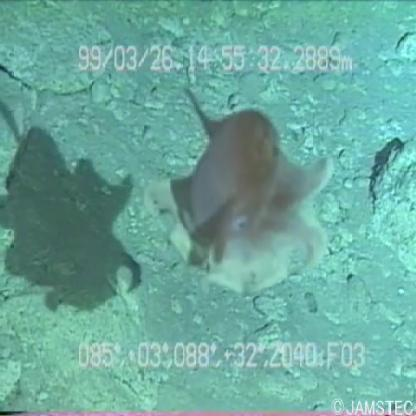Bio: (142, 78, 338, 302)
